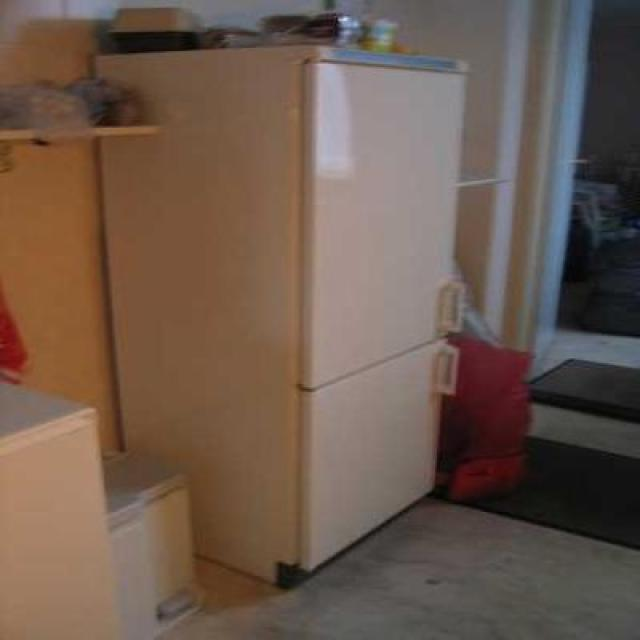refrigerator: (288, 42, 466, 584)
